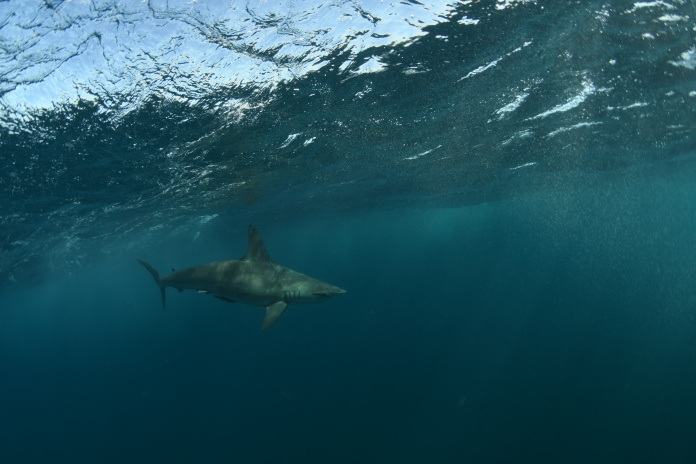Hammer: (134, 217, 360, 336)
